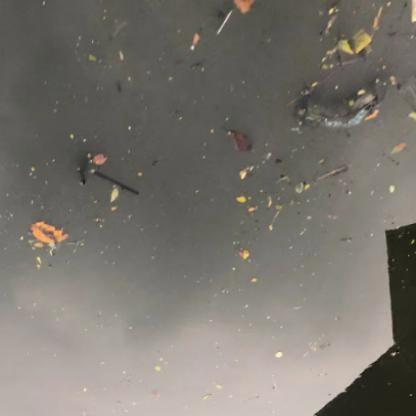Trash: (294, 73, 390, 138)
